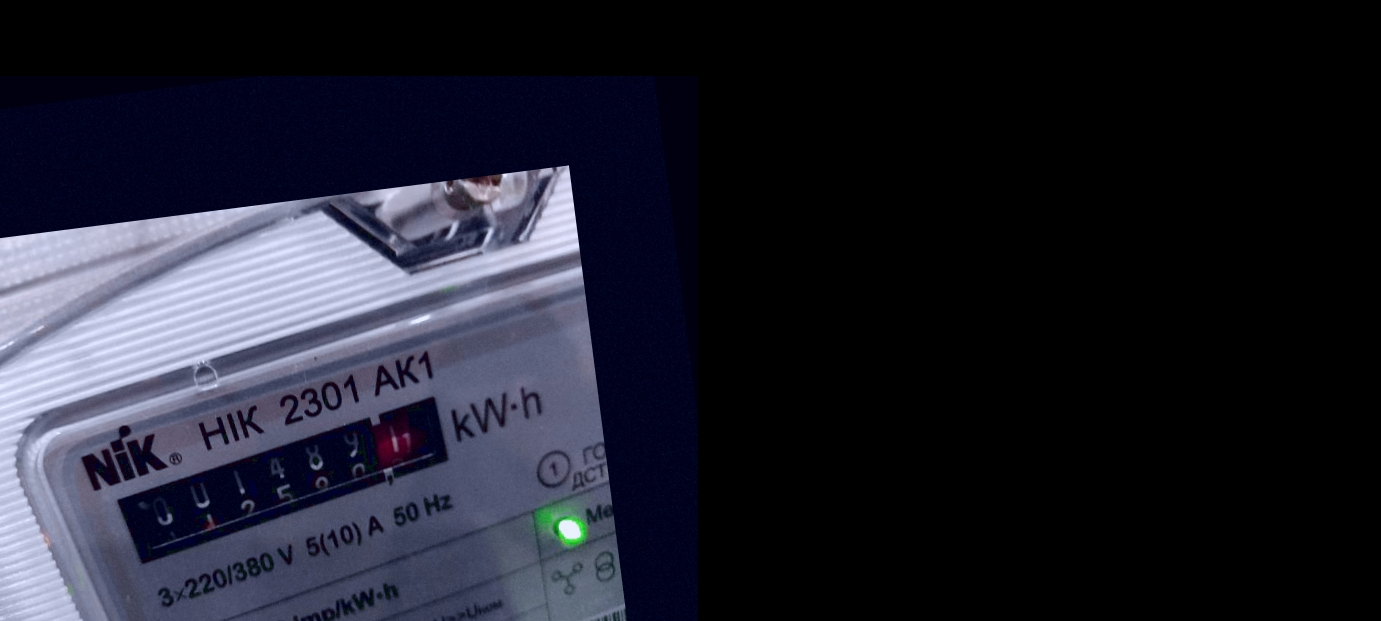0: (184, 473, 214, 512), (148, 492, 176, 530)
1: (381, 416, 405, 457), (227, 464, 251, 498)
4: (263, 449, 289, 483)
8: (302, 436, 327, 475)
9: (340, 426, 364, 460)
screen: (96, 381, 487, 579)
